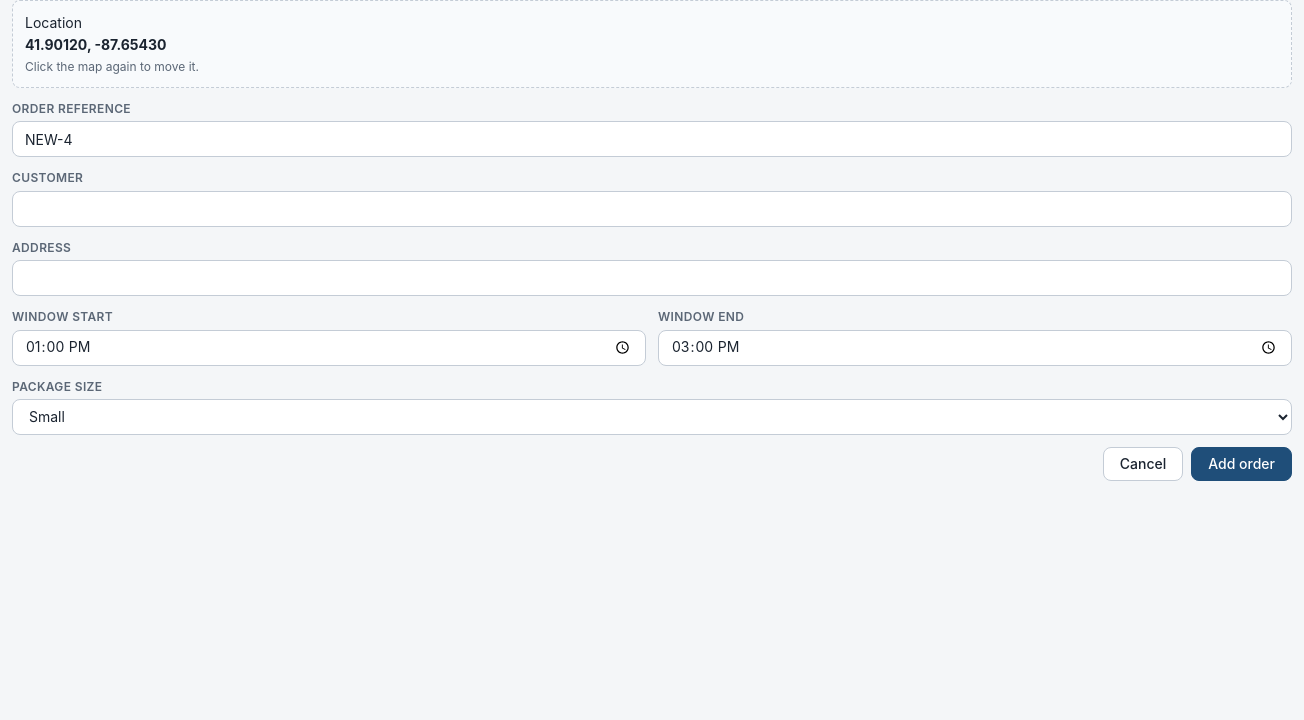
it: AddOrderForm › rejects a window that ends before it starts
Step 1. Type "Ada Park" into the field labelled "Customer" → {"x": 652, "y": 209}, box [12, 191, 1292, 227]
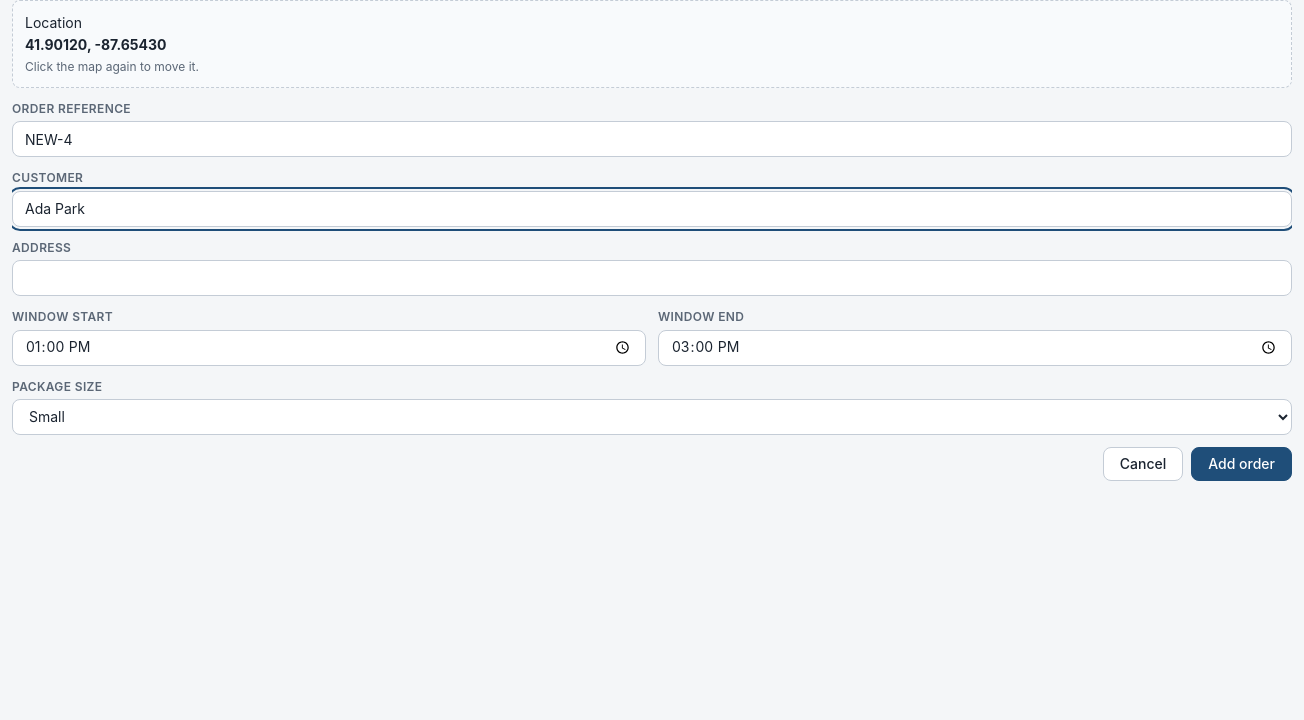
Step 2. Type "1 W Madison St" into the field labelled "Address" → {"x": 652, "y": 278}, box [12, 260, 1292, 296]
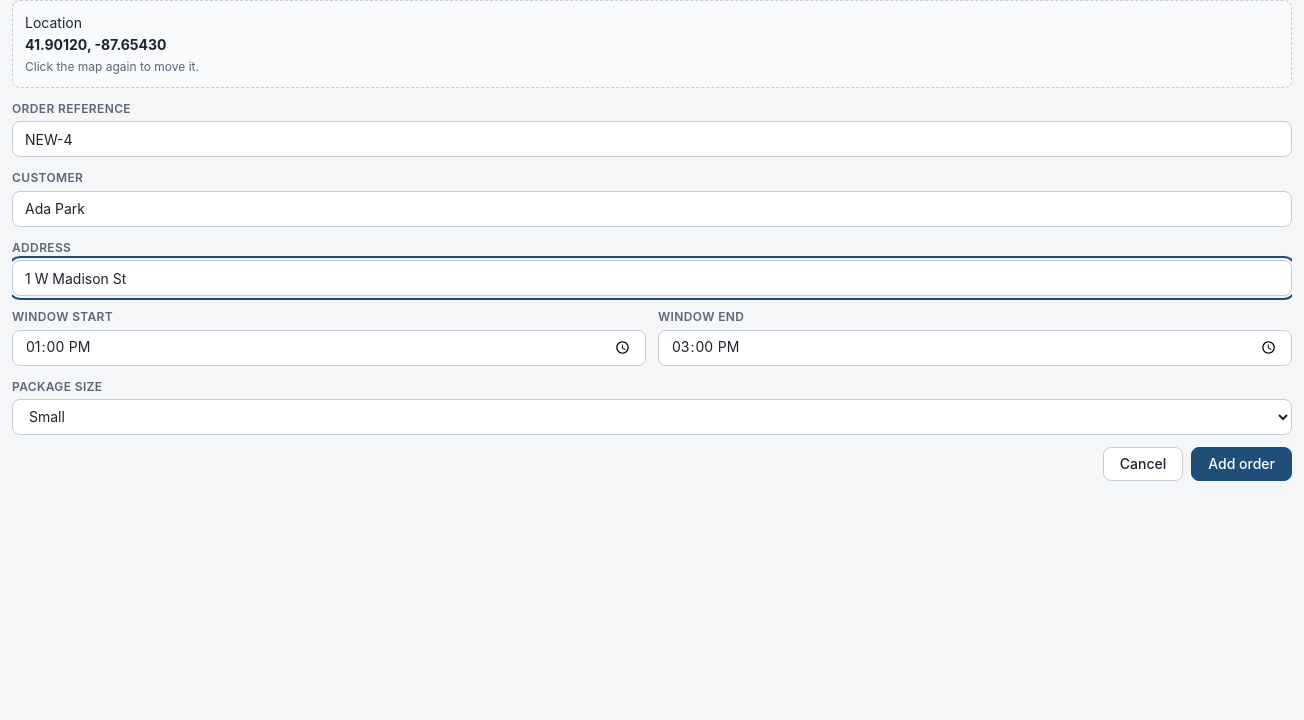
Step 3. Replace the text in the time field labelled "Window end" with "12:30" → {"x": 975, "y": 348}, box [658, 330, 1292, 366]
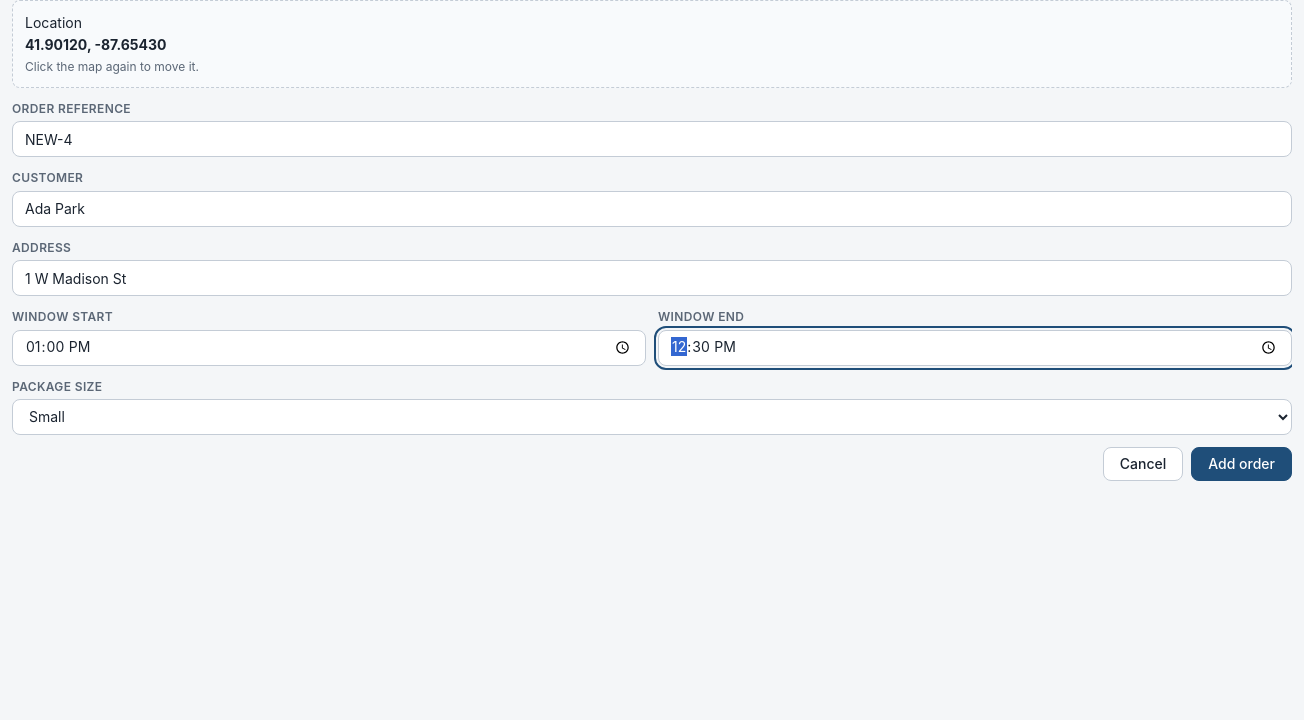
Step 4. Click the button "Add order" → {"x": 1242, "y": 464}, box [1191, 447, 1292, 481]
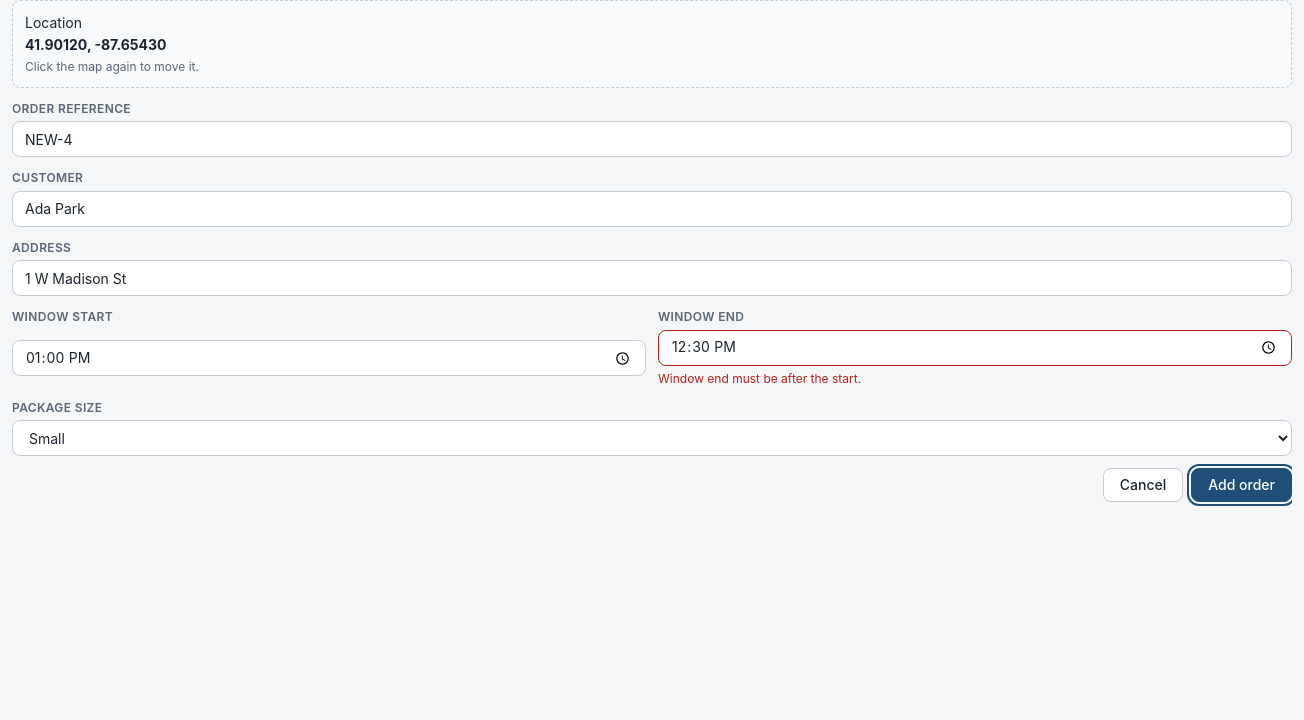
Expected: the text "Window end must be after the start." is shown, [658, 370, 861, 386]
